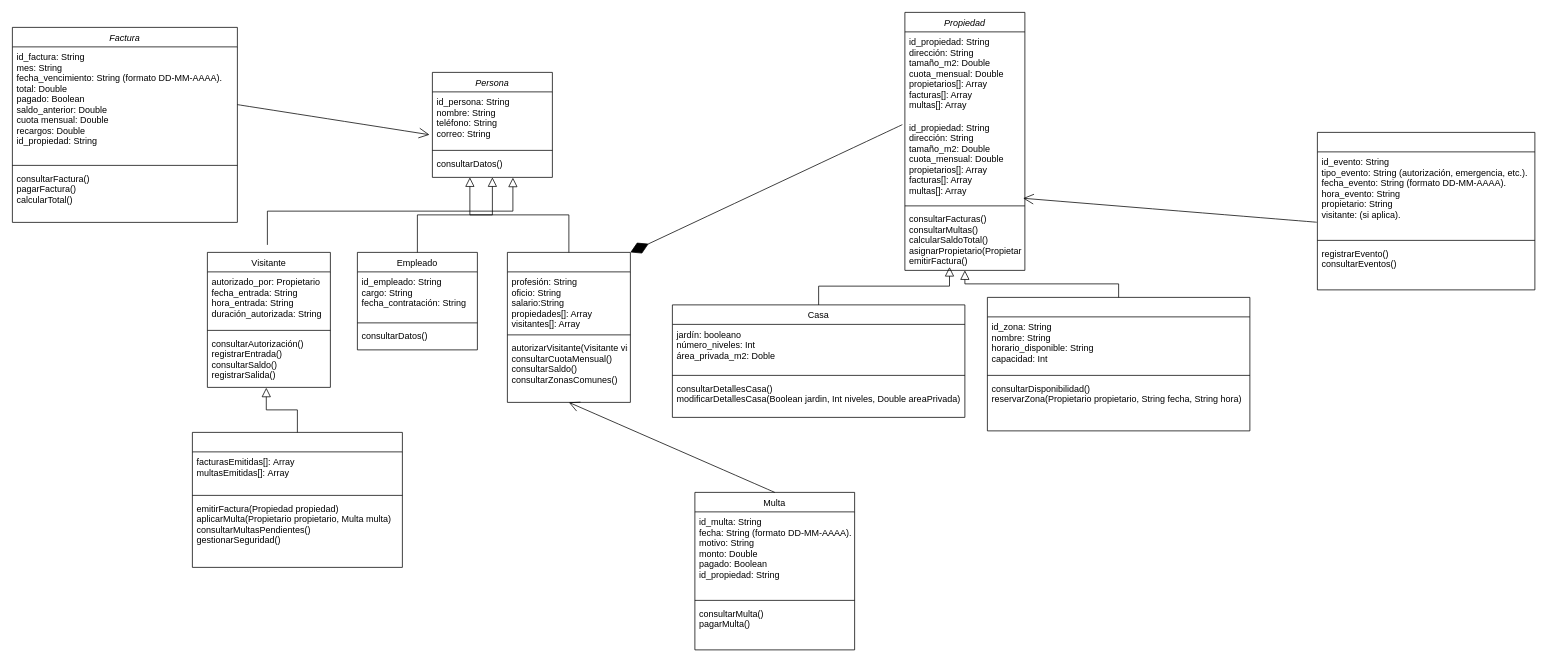
Image size: 1547x662. Some labels were removed from this diagram. The shapes that lost their labels are listed below. From the top down, each one's box as (x1, y1, x2, y2) in pixels, then its label:
(1317, 132, 1535, 290): Seguridad
(507, 252, 630, 402): Propietario
(987, 297, 1250, 431): ZonaComún
(192, 432, 402, 567): Administrador
